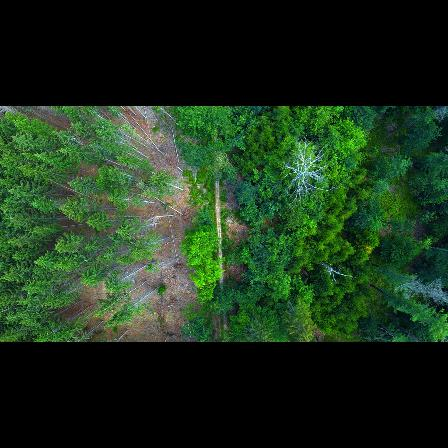Dead: (284, 136, 333, 207), (387, 276, 448, 305), (316, 262, 358, 284)
